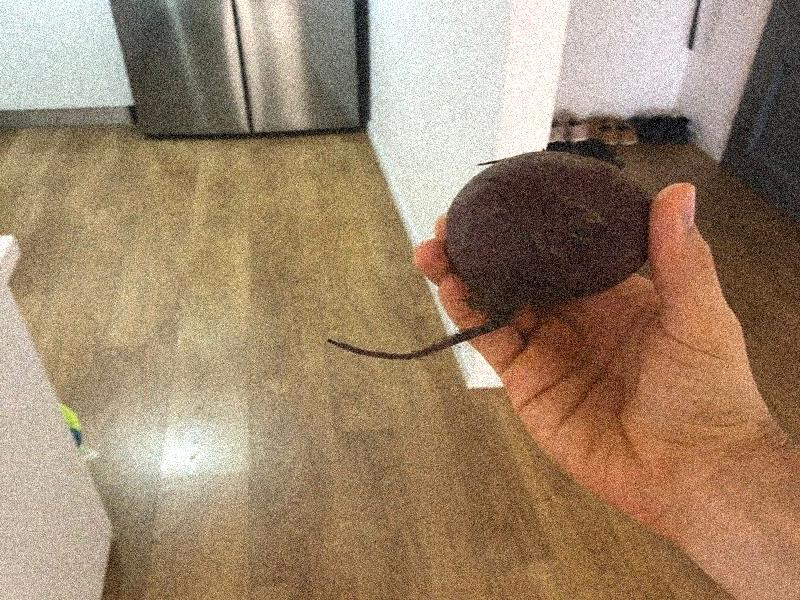Beet: (326, 141, 650, 359)
